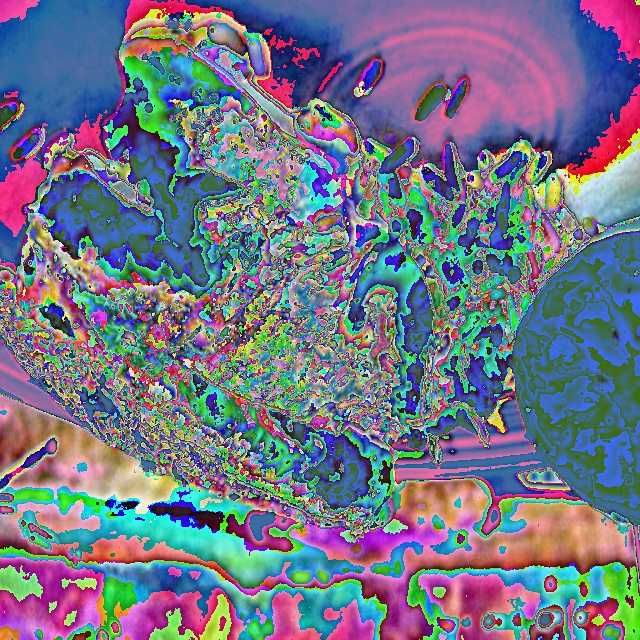background: (0, 34, 640, 543)
